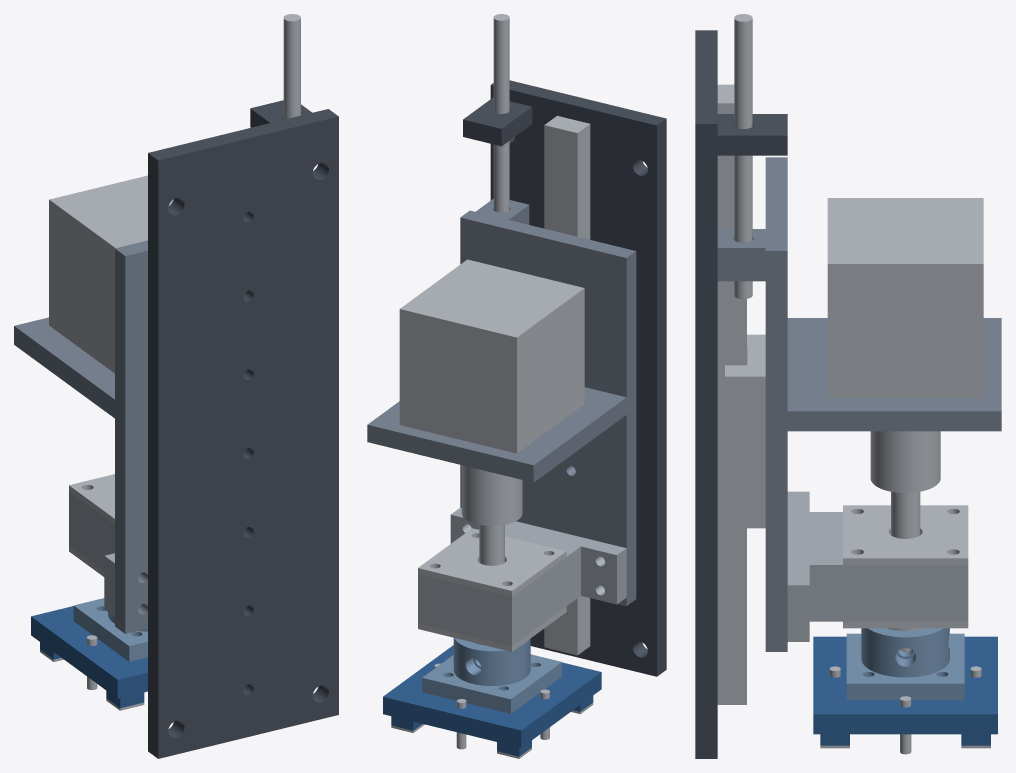
Rendered from one_face_module.glb.
3 views of the same model, side by side, from view 1: azimuth 30°, elevation 25°; view 2: azimuth 150°, elevation 25°; view 3: azimuth 270°, elevation 25° (orthographic). The views are drawn at different scales.
Parts seen in each view (by area): view 1: rail_support, carriage, motor_NEMA17, drive_plate, bearing_housing, shaft_hub, feed_screw_M5, bearing_rear_cap; view 2: rail_support, carriage, motor_NEMA17, bearing_housing, drive_plate, rail_MGN12, shaft_hub, bearing_rear_cap, coupling_5x8, feed_screw_M5, spindle_8mm, bearing_front_cap; view 3: motor_NEMA17, carriage, rail_support, bearing_housing, drive_plate, rail_MGN12, shaft_hub, block_MGN12H, bearing_rear_cap, coupling_5x8, feed_screw_M5, spindle_8mm (+1 smaller).
Boxes of the visible parts, x1=… form: rail_support: x1=148, y1=100, x2=338, y2=758; carriage: x1=14, y1=240, x2=147, y2=633; motor_NEMA17: x1=49, y1=175, x2=173, y2=373; drive_plate: x1=31, y1=606, x2=147, y2=708; bearing_housing: x1=69, y1=492, x2=114, y2=616; shaft_hub: x1=73, y1=598, x2=147, y2=661; feed_screw_M5: x1=283, y1=14, x2=300, y2=119; bearing_rear_cap: x1=69, y1=474, x2=114, y2=524; rail_support: x1=463, y1=80, x2=666, y2=676; carriage: x1=367, y1=198, x2=636, y2=605; motor_NEMA17: x1=399, y1=259, x2=584, y2=453; bearing_housing: x1=418, y1=507, x2=626, y2=645; drive_plate: x1=383, y1=645, x2=601, y2=756; rail_MGN12: x1=544, y1=115, x2=590, y2=655; shaft_hub: x1=422, y1=638, x2=561, y2=713; bearing_rear_cap: x1=418, y1=528, x2=566, y2=596; coupling_5x8: x1=461, y1=465, x2=522, y2=525; feed_screw_M5: x1=493, y1=14, x2=509, y2=212; spindle_8mm: x1=479, y1=525, x2=504, y2=565; bearing_front_cap: x1=418, y1=606, x2=566, y2=651; motor_NEMA17: x1=827, y1=198, x2=983, y2=397; carriage: x1=717, y1=157, x2=1001, y2=651; rail_support: x1=695, y1=30, x2=787, y2=758; bearing_housing: x1=787, y1=491, x2=968, y2=641; drive_plate: x1=813, y1=636, x2=997, y2=745; rail_MGN12: x1=717, y1=84, x2=746, y2=704; shaft_hub: x1=846, y1=628, x2=964, y2=700; block_MGN12H: x1=725, y1=334, x2=765, y2=528; bearing_rear_cap: x1=843, y1=505, x2=968, y2=564; coupling_5x8: x1=870, y1=431, x2=940, y2=492; feed_screw_M5: x1=734, y1=14, x2=752, y2=299; spindle_8mm: x1=891, y1=491, x2=920, y2=652.
Size of the model in its own units: 60 by 221 by 83.
